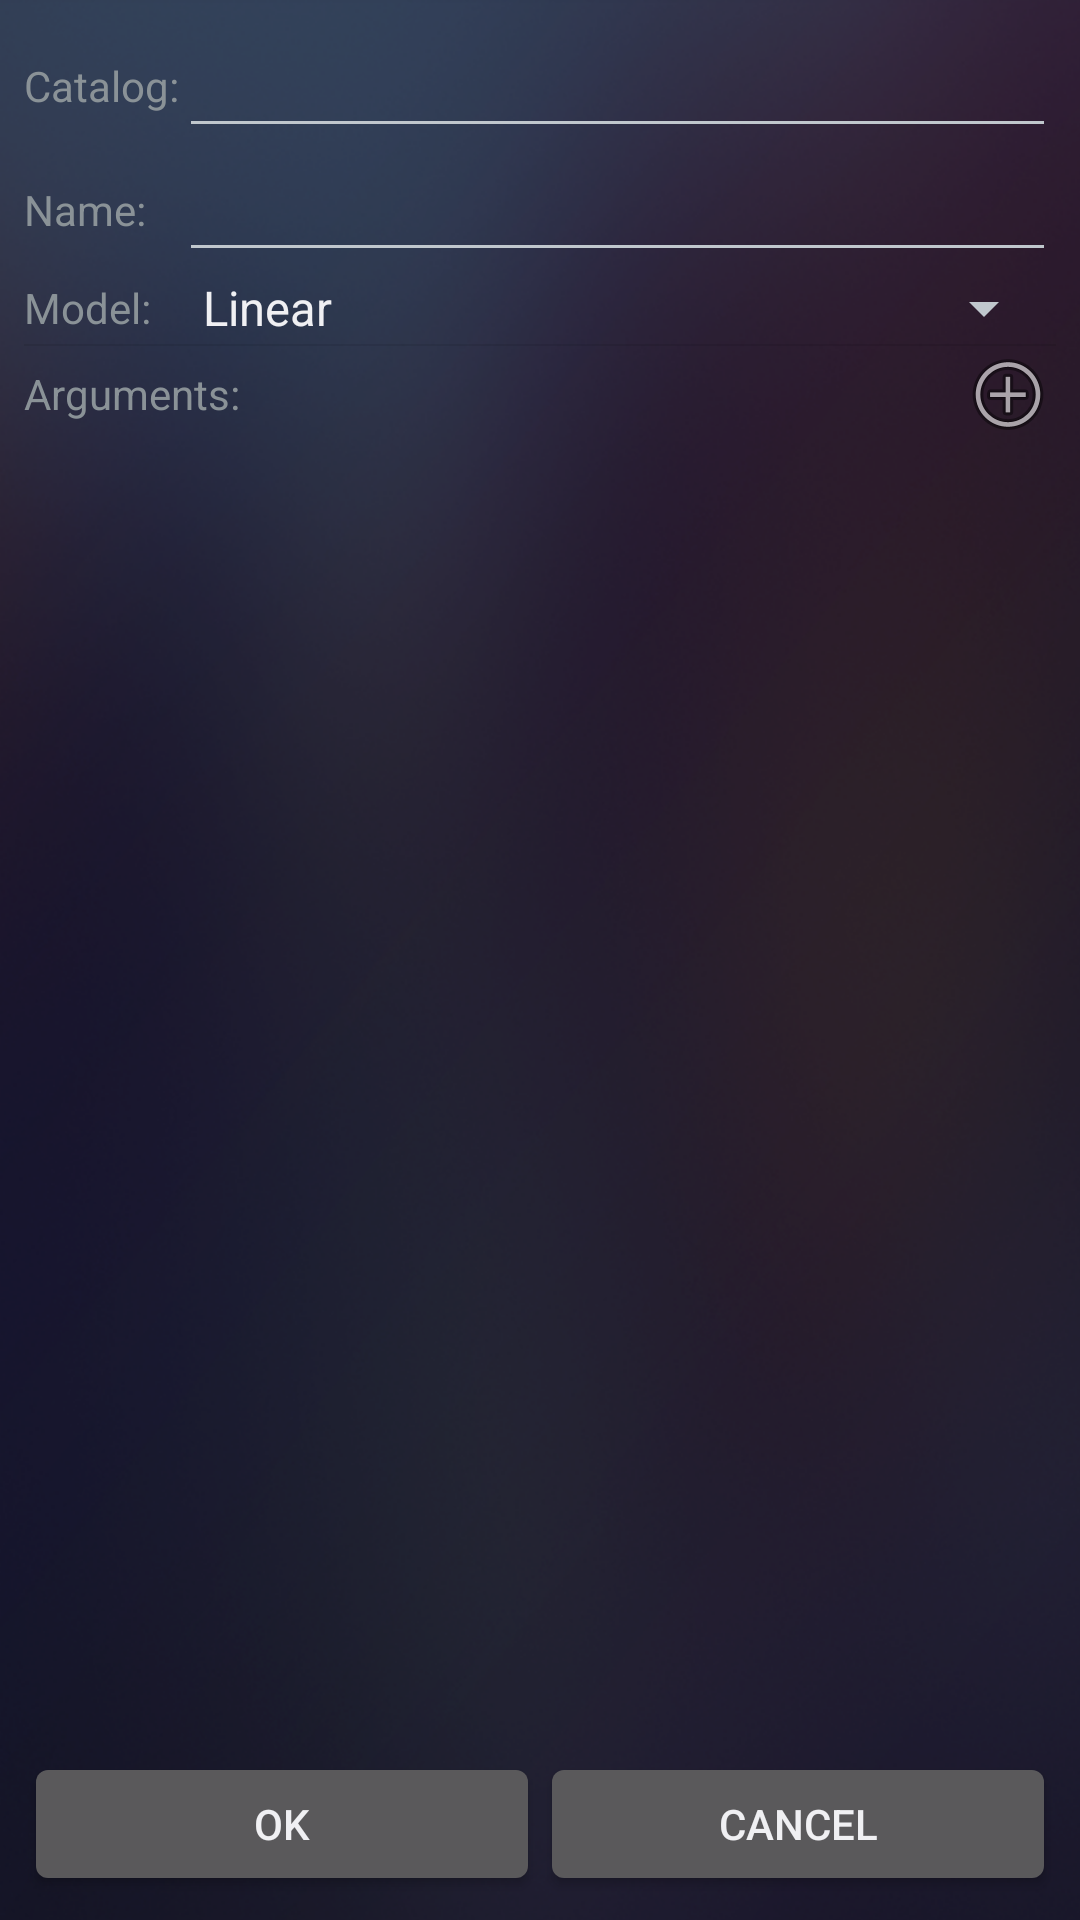

Locate icon controls on the screen. Image size 1080×1920, boxes as (x1, y1, x2, y2).
add: (975, 362, 1041, 428)
